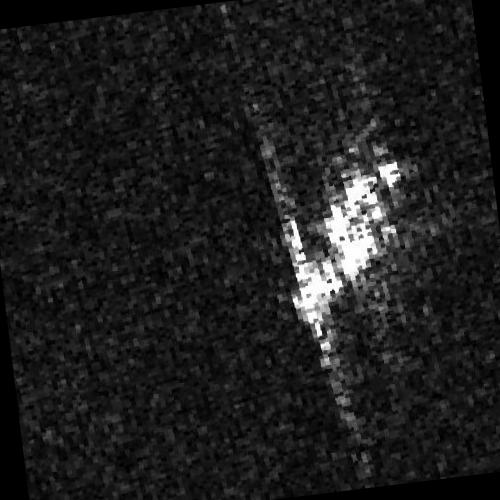ship: (291, 156, 402, 327)
